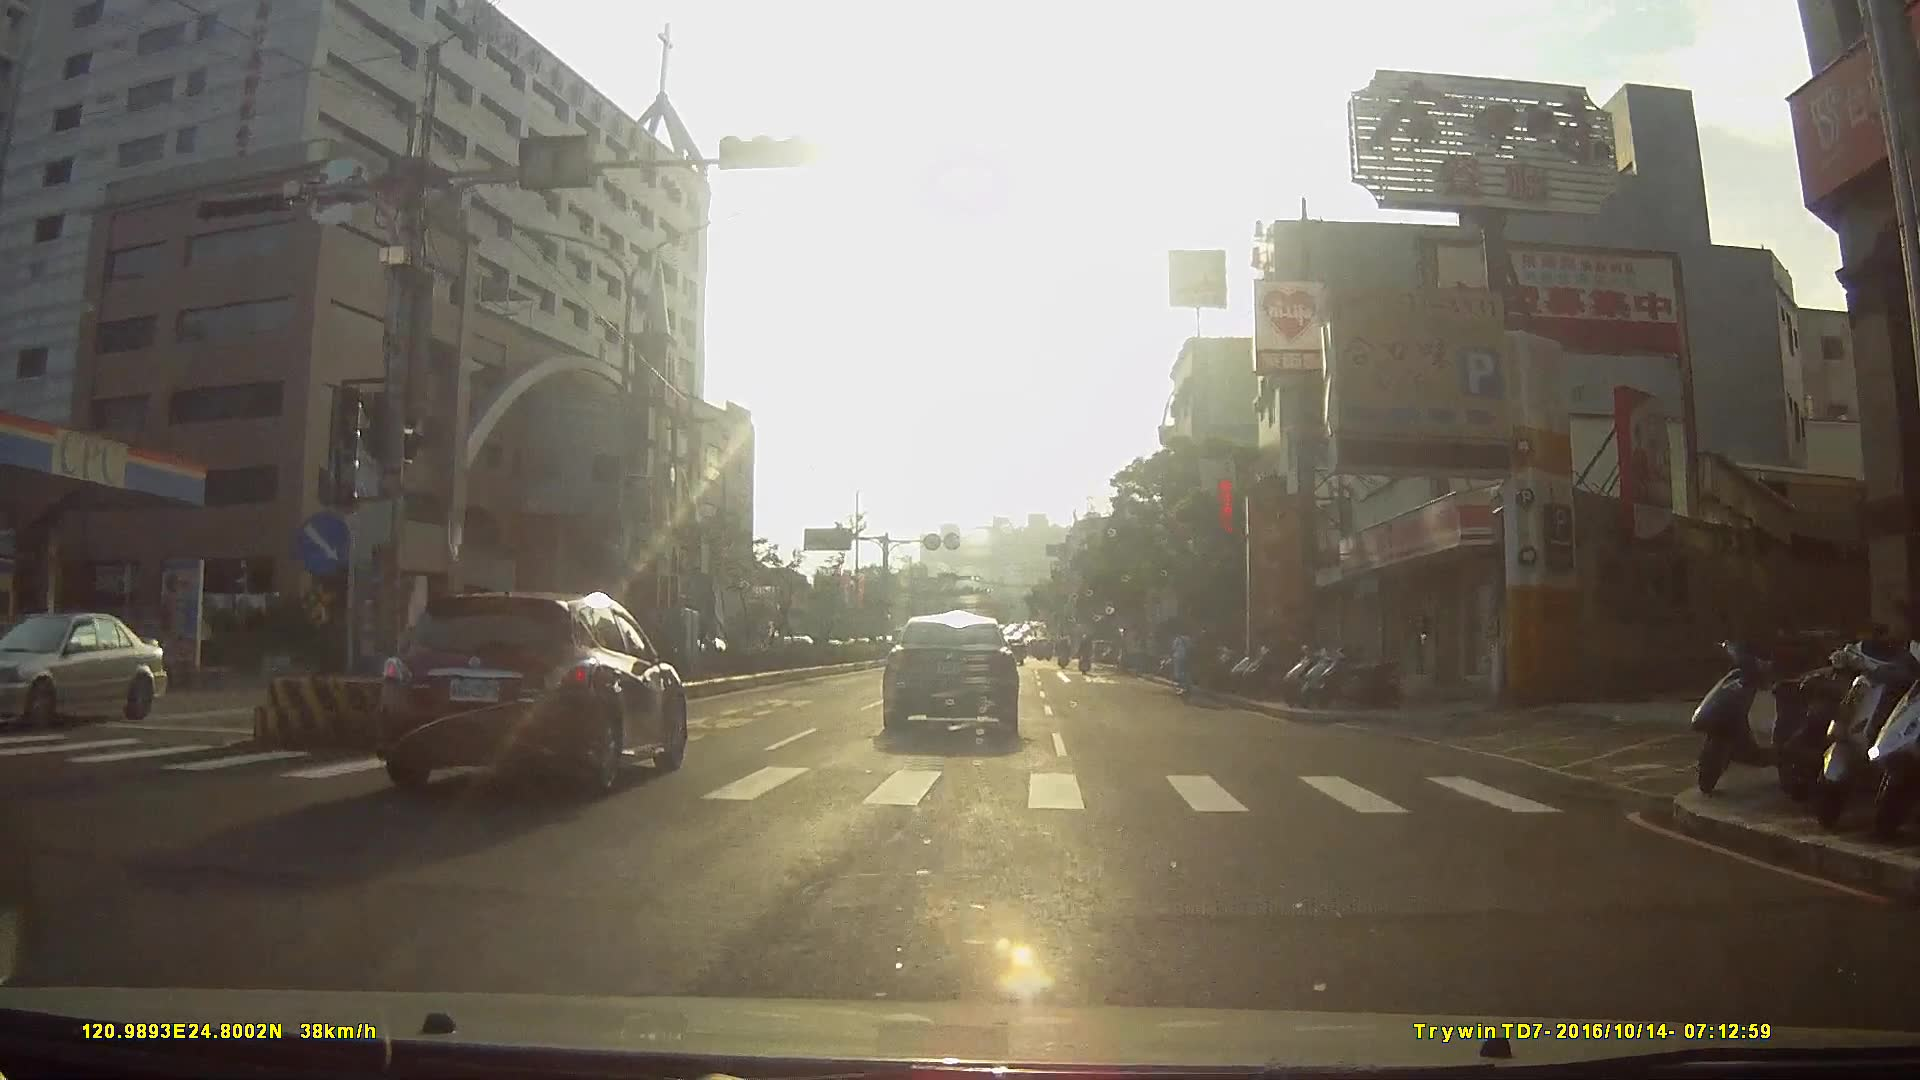rider: (1170, 624, 1199, 707)
vehicle: (369, 580, 699, 801), (4, 608, 167, 737), (877, 603, 1030, 739), (763, 607, 822, 662)
